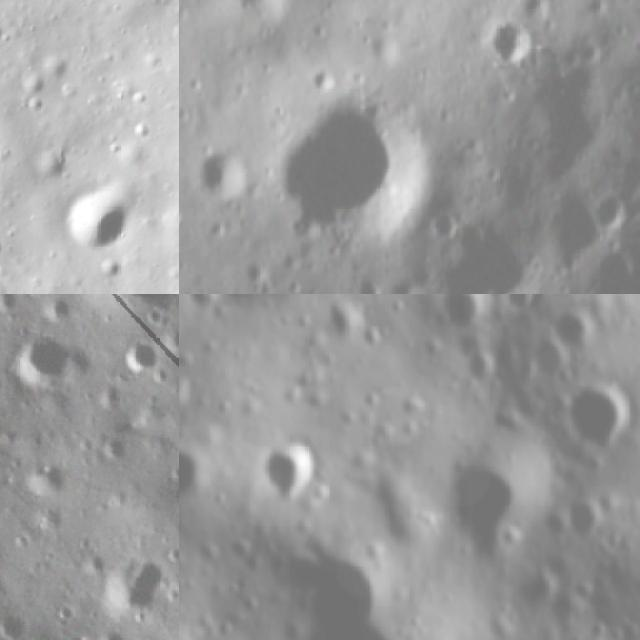crater: (278, 98, 435, 251), (439, 448, 528, 563), (427, 213, 550, 294), (50, 185, 138, 265), (558, 379, 632, 457), (250, 435, 324, 504), (8, 322, 74, 394), (191, 144, 252, 218), (103, 552, 164, 618), (486, 17, 547, 78), (543, 298, 598, 353), (80, 294, 179, 322), (515, 329, 567, 382), (587, 185, 633, 244), (558, 492, 609, 544), (432, 294, 489, 339), (20, 455, 73, 501), (229, 0, 298, 30), (123, 333, 163, 377), (39, 148, 76, 179), (496, 294, 545, 316), (92, 620, 140, 640), (0, 294, 25, 322), (206, 618, 235, 640), (179, 377, 189, 418)
